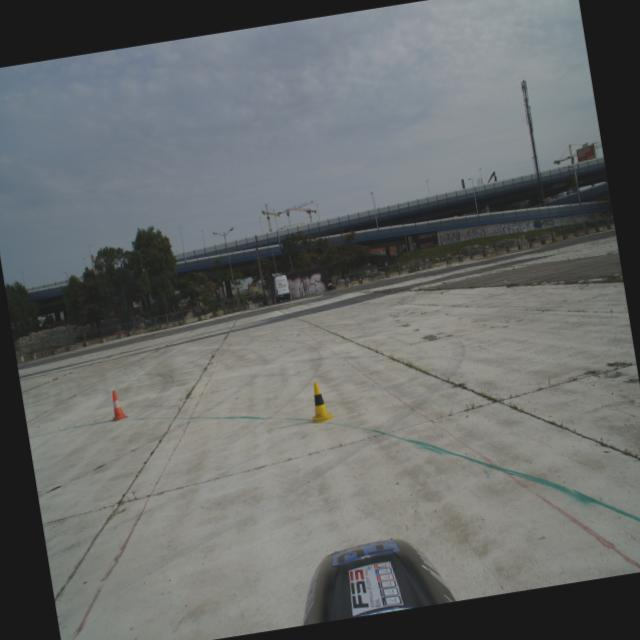orange_cone: (107, 389, 129, 422)
yellow_cone: (304, 380, 336, 424)
